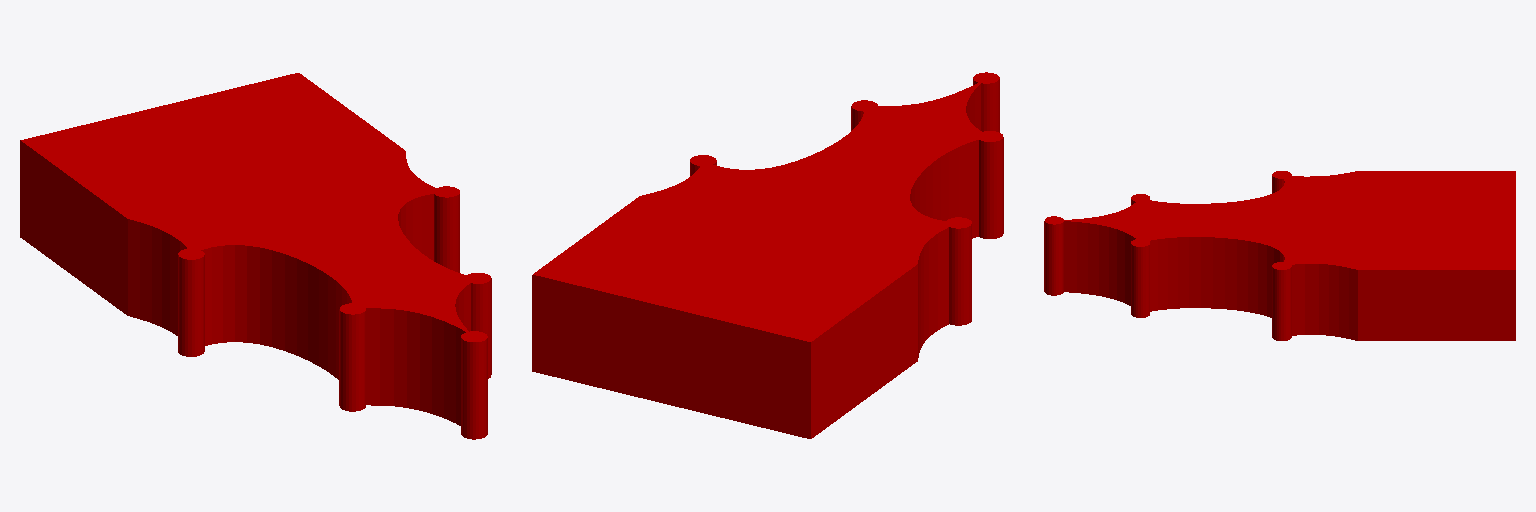
robot.urdf — triangle:
<?xml version="1.0" ?>
<robot name="triangle">
  <link name="baseLink">
    <contact>
      <lateral_friction value="0.2"/>
      <rolling_friction value="0.0"/>
	<restitution value="0.0" />
    </contact>
    <inertial>
      <origin rpy="0 0 0" xyz="0 0 0"/>
       <mass value="10"/>
       <inertia ixx="0" ixy="0" ixz="0" iyy="0" iyz="0" izz="0"/>
    </inertial>
    <visual>
      <origin rpy="0 0 0" xyz="0 0 0"/>
      <geometry>
		<mesh filename="./peg_2.obj" scale="0.1 0.1 0.1"/>
      </geometry>
       <material name="red">
        <color rgba="0.8 0 0 1"/>
      </material>
    </visual>
    <collision>
      <origin rpy="0 0 0" xyz="0 0 0"/>
      <geometry>
	 	<mesh filename="./peg_2.obj" scale="0.1 0.1 0.1"/>
      </geometry>
    </collision>
  </link>
</robot>

--- Facts derived from the render (not from the file) ---
Views: 3 orthographic renders of the robot side by side, from view 1: azimuth 30°, elevation 25°; view 2: azimuth 150°, elevation 25°; view 3: azimuth 270°, elevation 25°.
Model triangle with 1 links and 0 joints (none), rooted at baseLink, posed every joint at zero.
Visible links, largest first — view 1: baseLink; view 2: baseLink; view 3: baseLink.
Link boxes in pixels (x1,y1,x2,y2): baseLink: (20, 73, 491, 439); baseLink: (532, 72, 1003, 438); baseLink: (1044, 171, 1515, 340).
Bounding box of the posed robot: 0.6 × 1.2 × 0.2 m (x, y, z).
Meshes: 1 distinct files referenced, 1 mesh visuals loaded (1 OBJ).